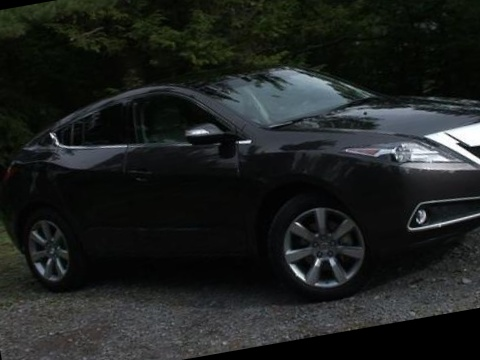car: (0, 12, 480, 357)
